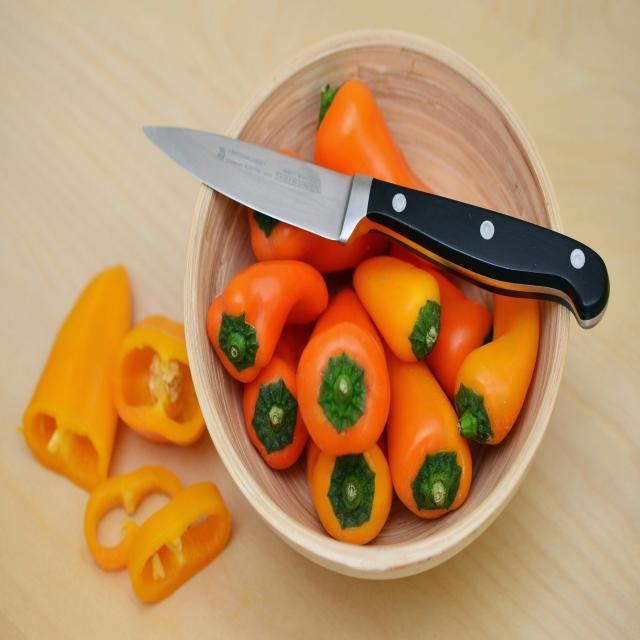Knife: (145, 128, 608, 327)
